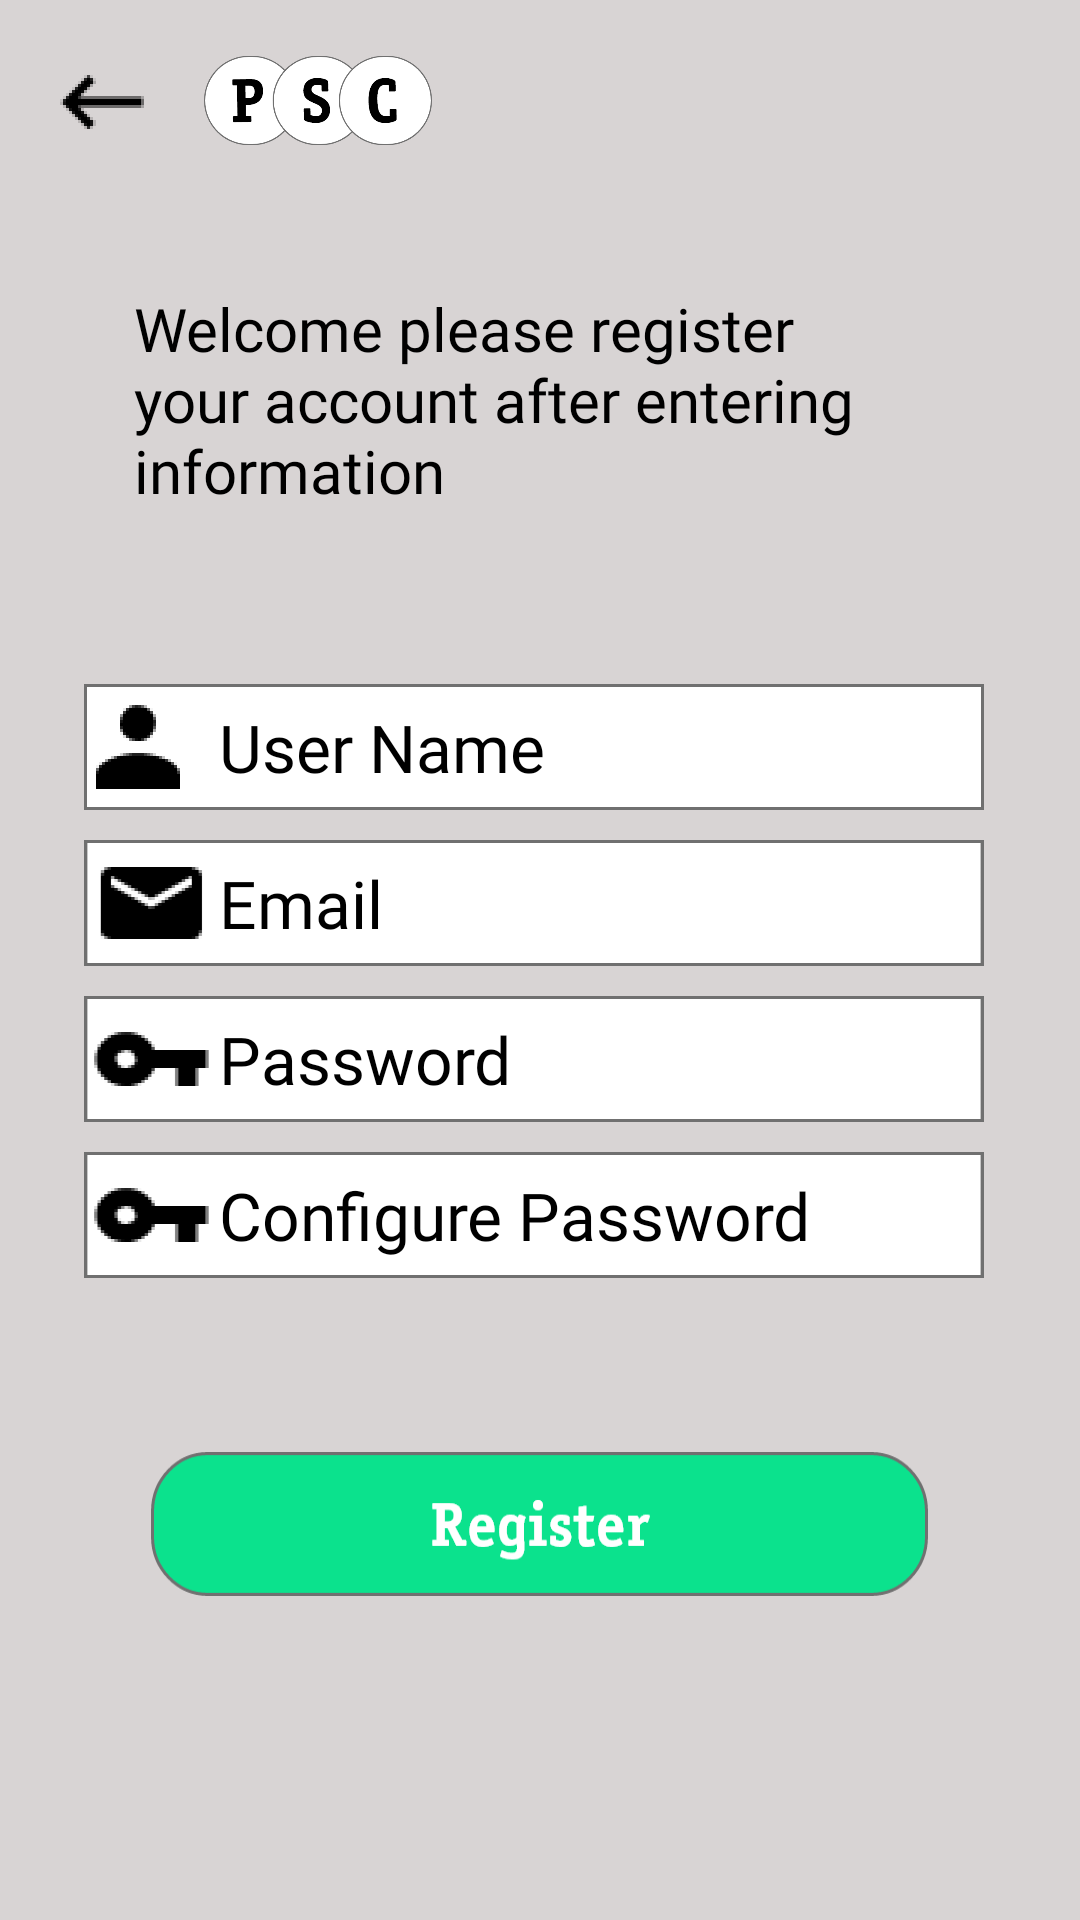

Point at icon controls on the screen. Image size 1080px×1920px, points as point (x, y).
keyboard backspace: point (102, 102)
